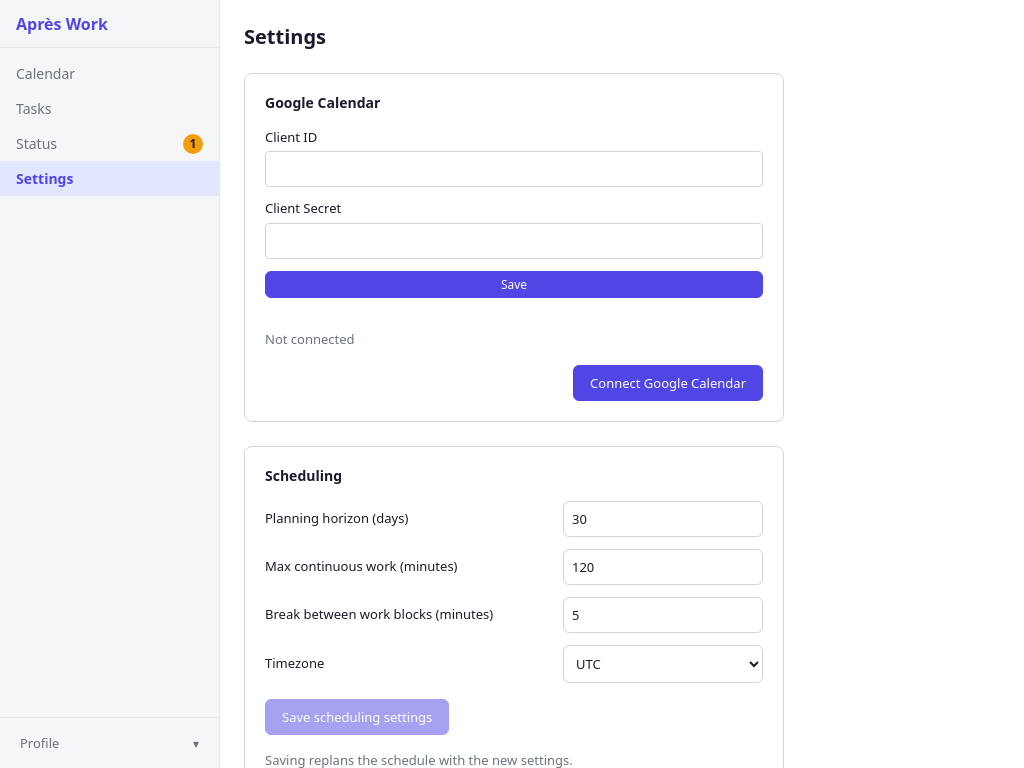
Test: Shell — status warnings modal › clicking the badge opens the warnings modal without navigating
The image size is (1024, 768).
Click the button named "1 warning" at (193, 144), box [183,134,203,154]
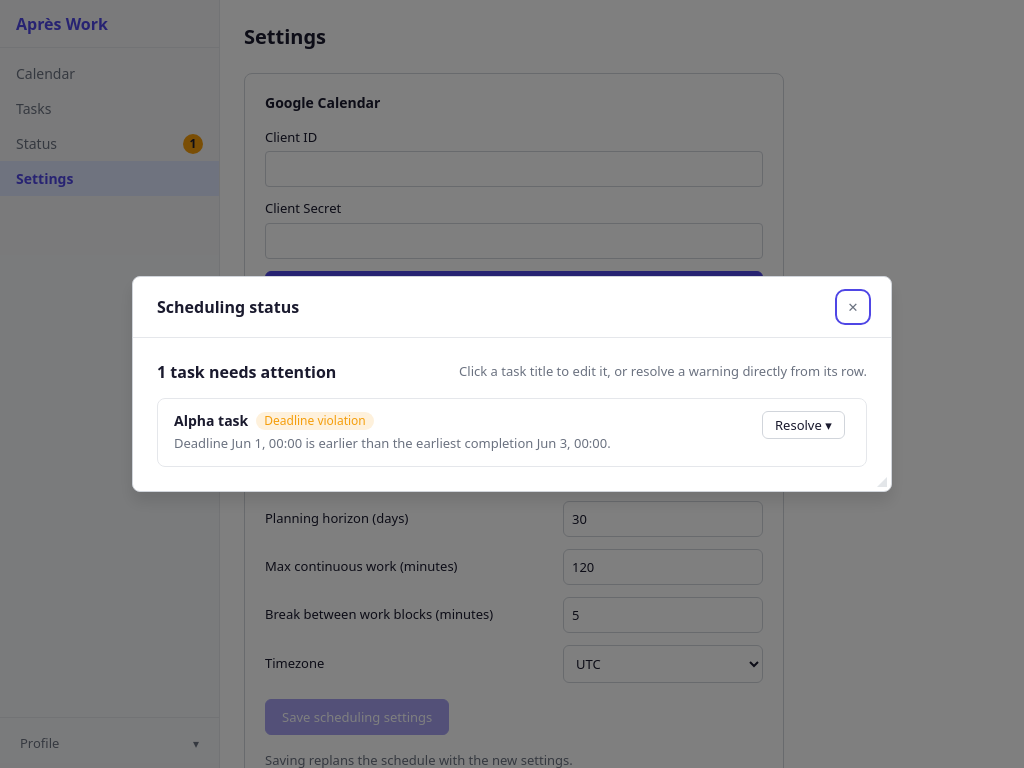
Now the dialog is shown, box [132,276,892,492]
Now the heading "1 task needs attention" is shown, box [157,362,336,382]
Now the button "Alpha task" is shown, box [174,411,248,430]
